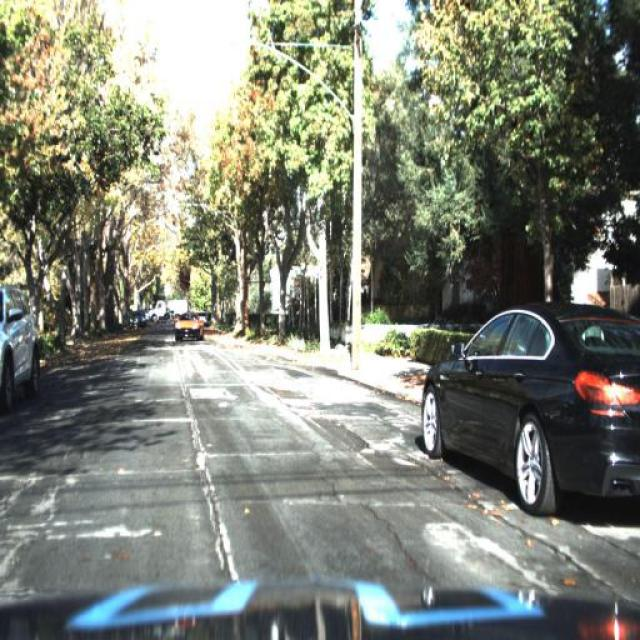car: (411, 283, 639, 526), (418, 296, 638, 524), (0, 276, 42, 419), (168, 310, 207, 349)
